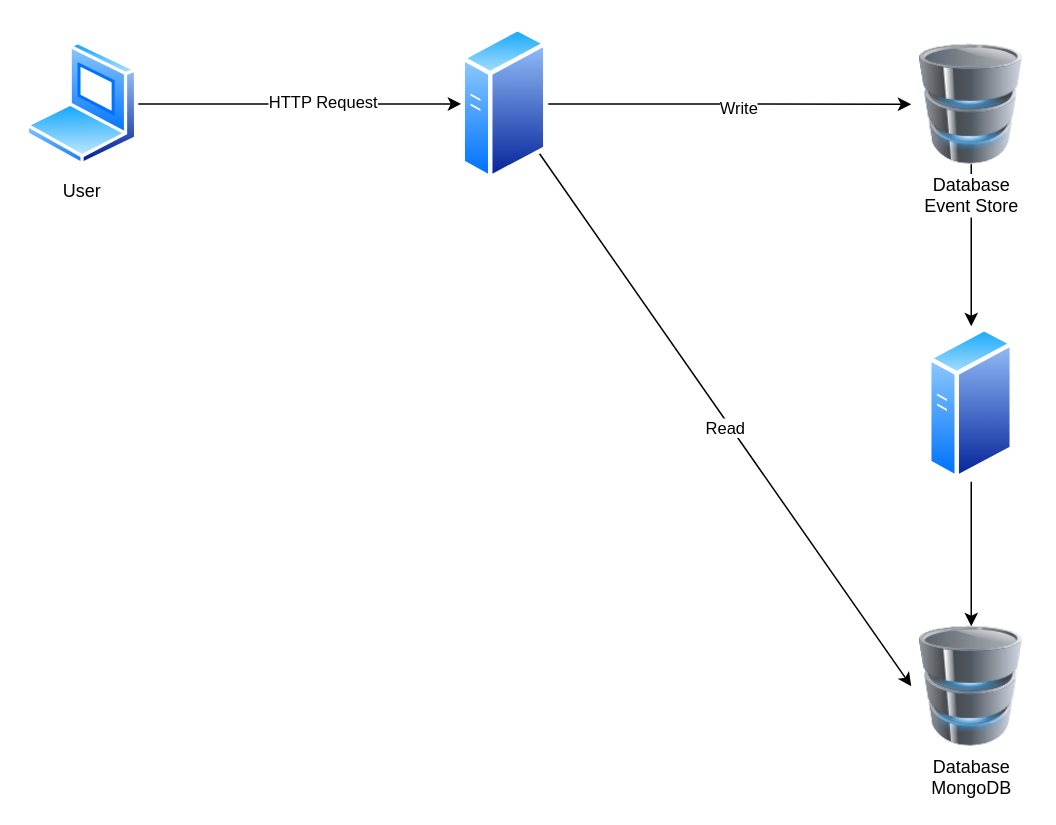
The diagram is 1056 pixels wide and 825 high, and some of its shapes have lost their labels. The shapes that lost their labels are listed below. From the top down, each one's centre as x and y in pixels, then its label:
the point at 504,103: Account Service
the point at 970,403: Projection
